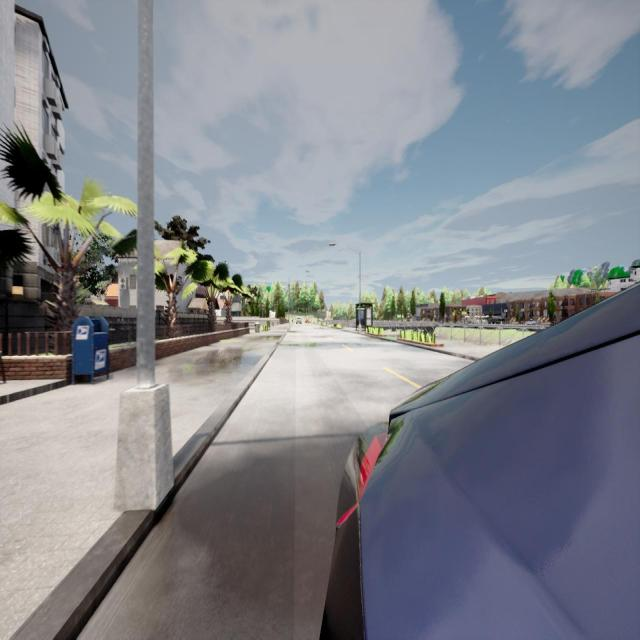Vehicle: (317, 283, 638, 640), (295, 314, 303, 326)
